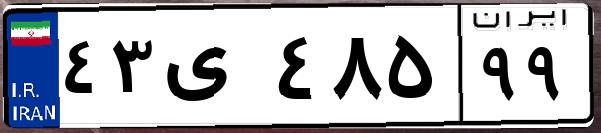3: (110, 28, 158, 98)
4: (270, 28, 330, 110), (57, 26, 110, 100)
5: (385, 28, 445, 110)
8: (330, 28, 385, 110)
9: (475, 38, 525, 113), (525, 38, 570, 115)
ی: (158, 20, 270, 120)
